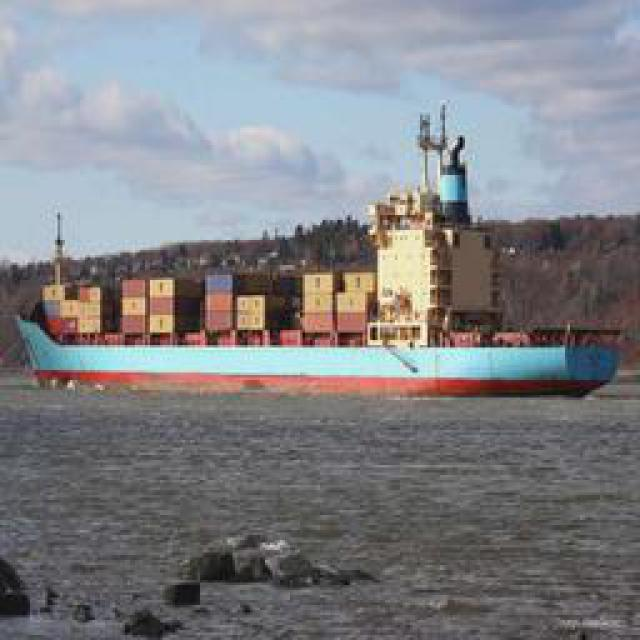Ship: (17, 308, 625, 393)
